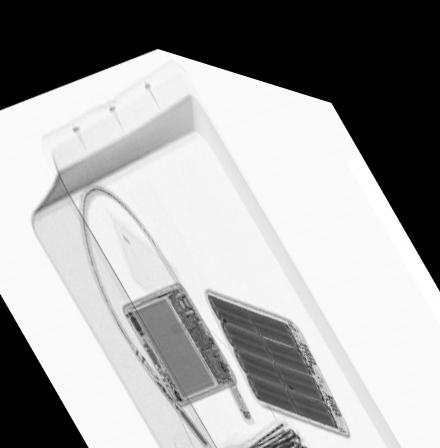Powerbank: (197, 274, 355, 421)
